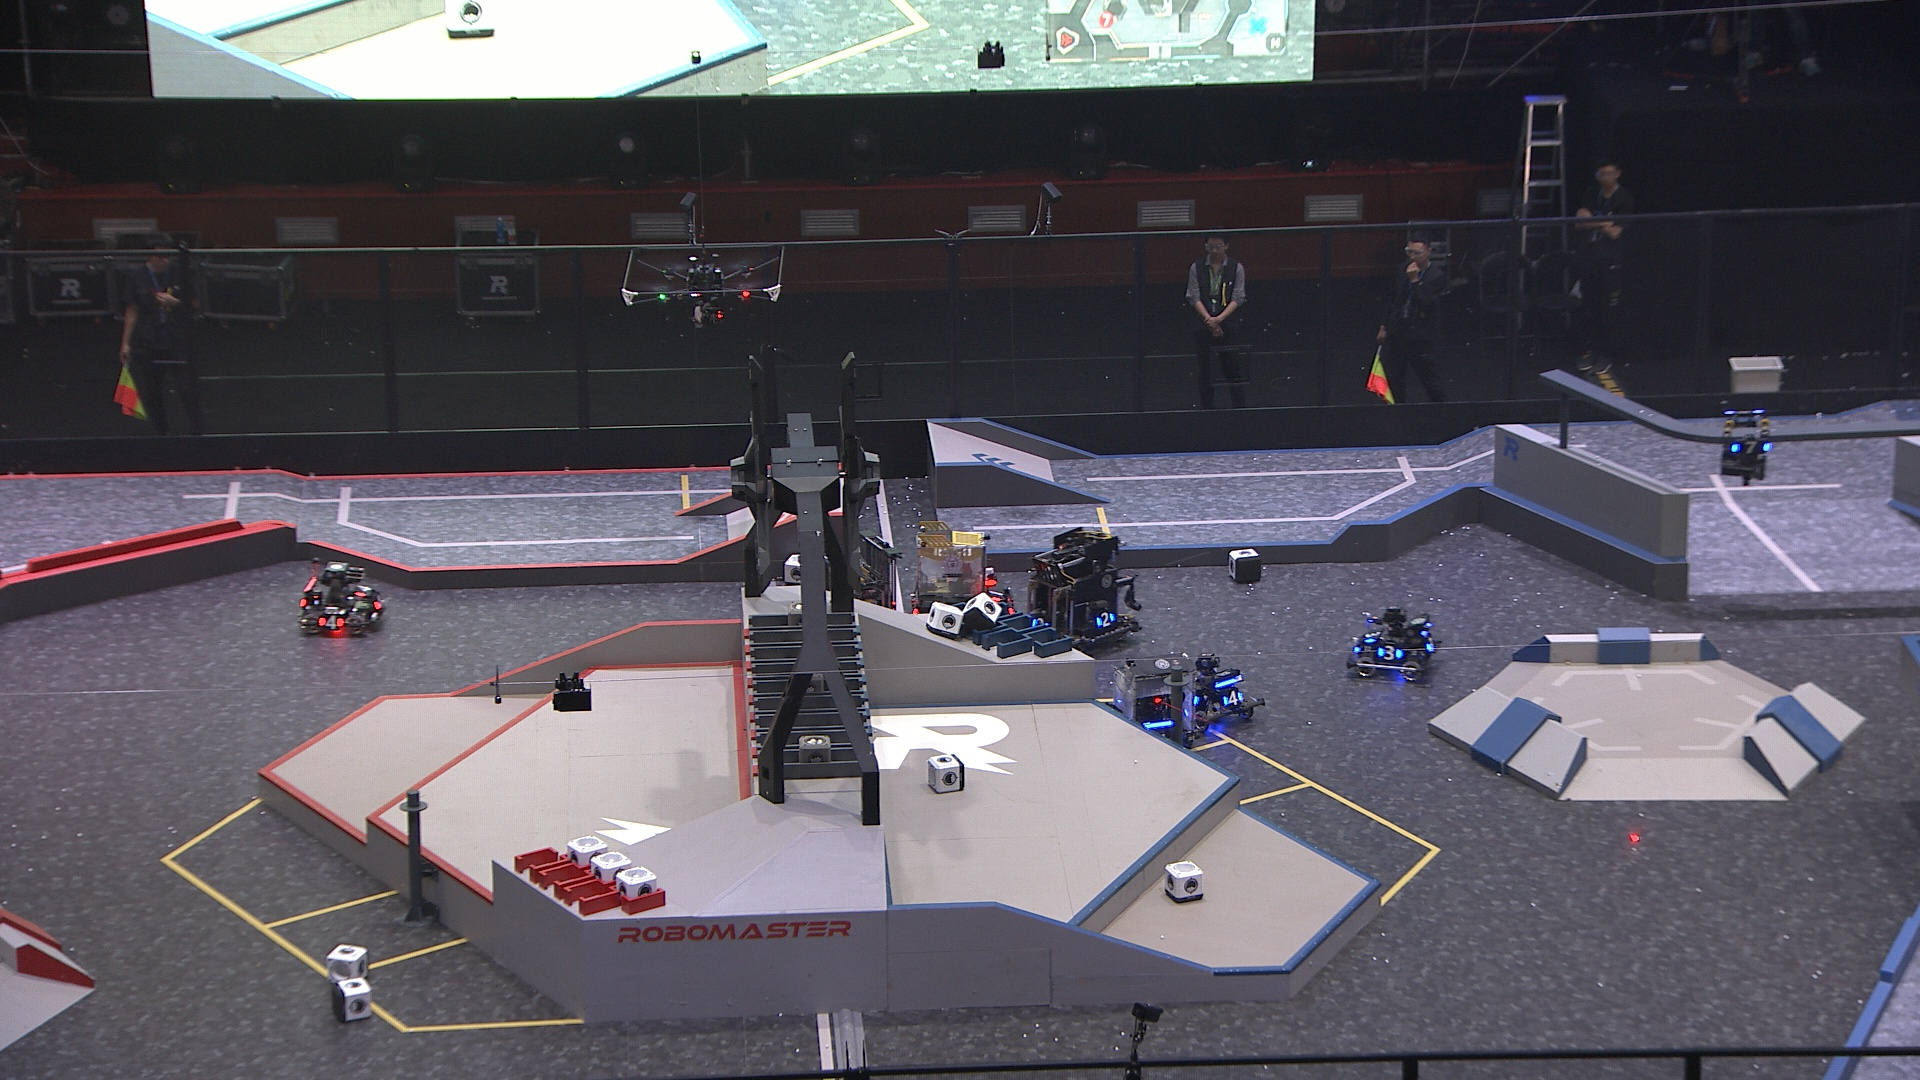armor: (1730, 438, 1768, 456), (1375, 645, 1400, 665), (1222, 690, 1244, 709), (319, 616, 344, 632), (1182, 690, 1203, 708), (986, 584, 1004, 605), (1364, 626, 1381, 647), (1095, 611, 1116, 628), (1423, 636, 1437, 657), (356, 580, 372, 599), (372, 595, 386, 612), (1031, 615, 1050, 628)
car: (1025, 520, 1141, 657), (907, 518, 1021, 638), (800, 524, 906, 646), (1102, 651, 1201, 764), (1346, 605, 1447, 683), (1178, 654, 1267, 737), (297, 556, 389, 633)
watcher: (1721, 406, 1776, 485)
